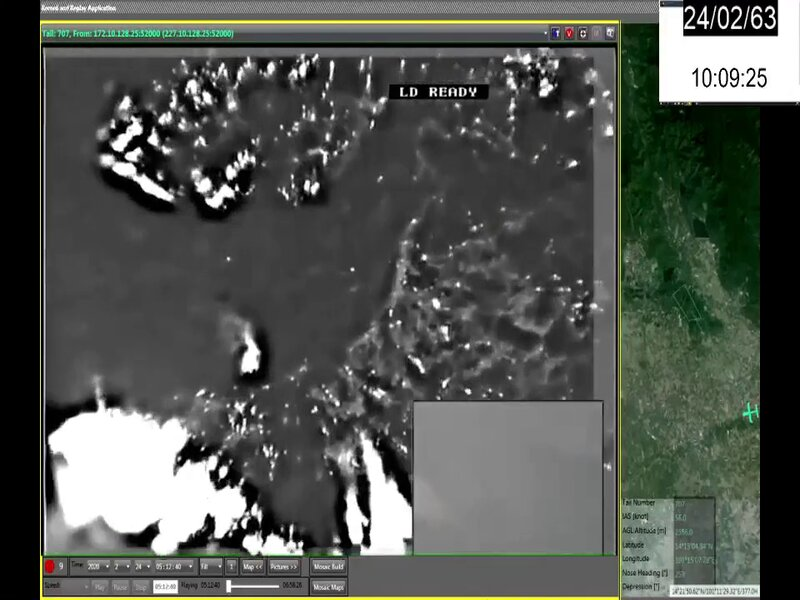Fire: (49, 406, 412, 555)
